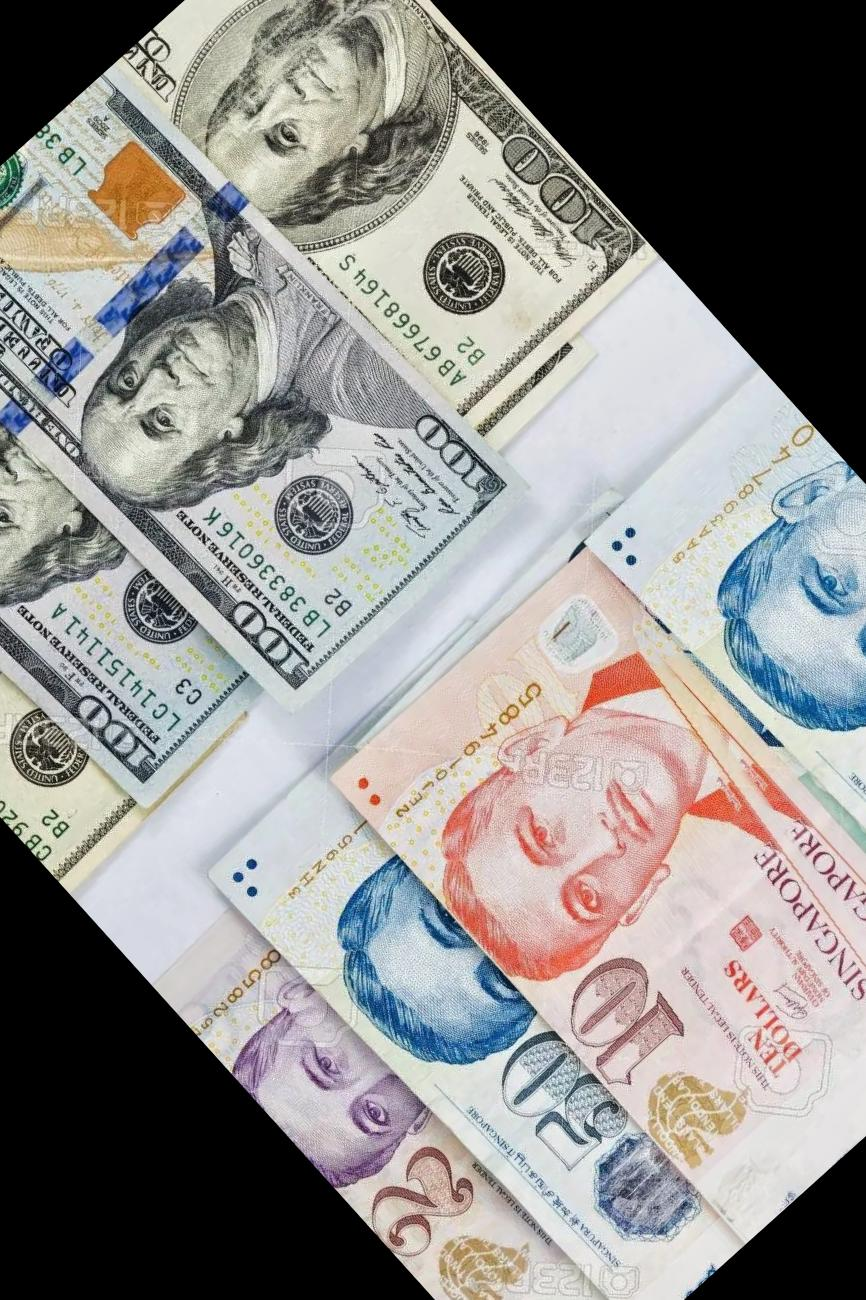10SingaporeDollar: (330, 548, 866, 1241)
